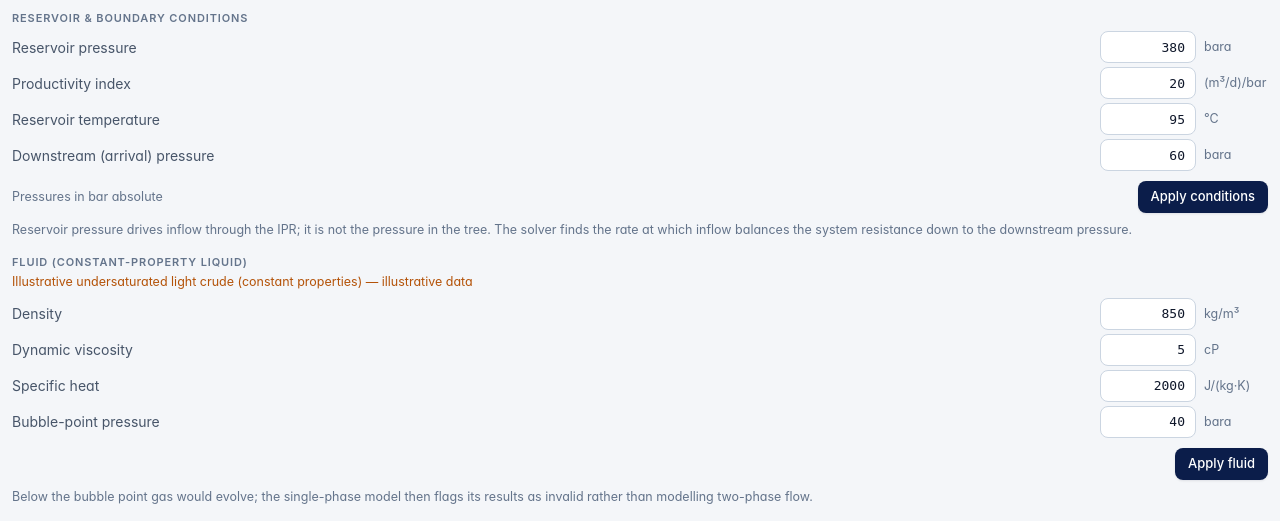
Test: ConditionsPanel › blocks non-numeric input
Clear the field labelled "Downstream (arrival) pressure": [1148, 155] box top-left (1100, 139), bottom-right (1196, 171)
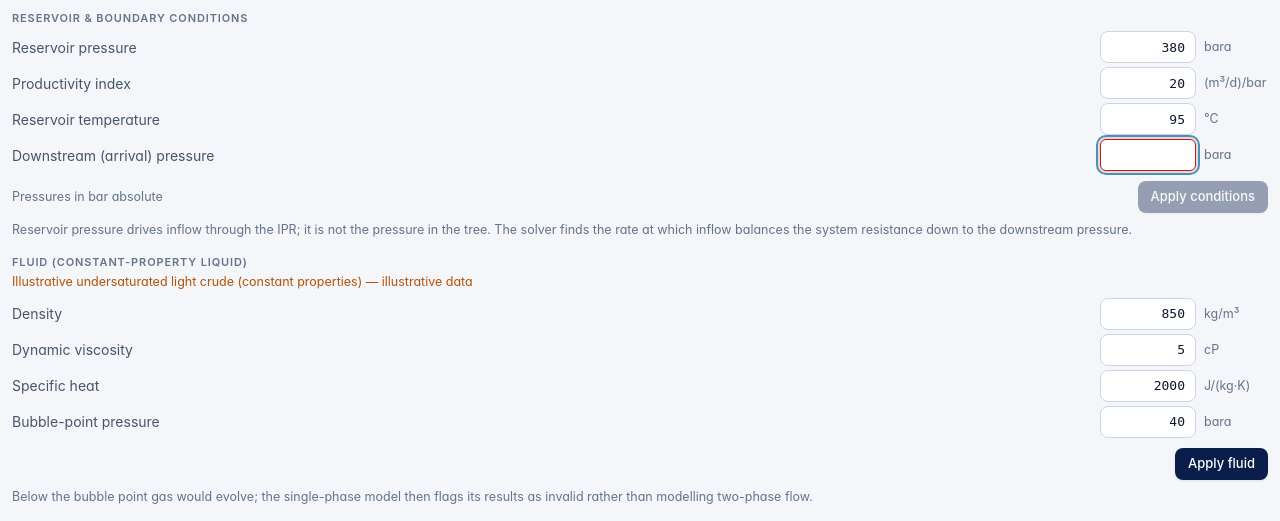
Now the button "Apply conditions" is disabled, box top-left (1138, 181), bottom-right (1268, 213)
